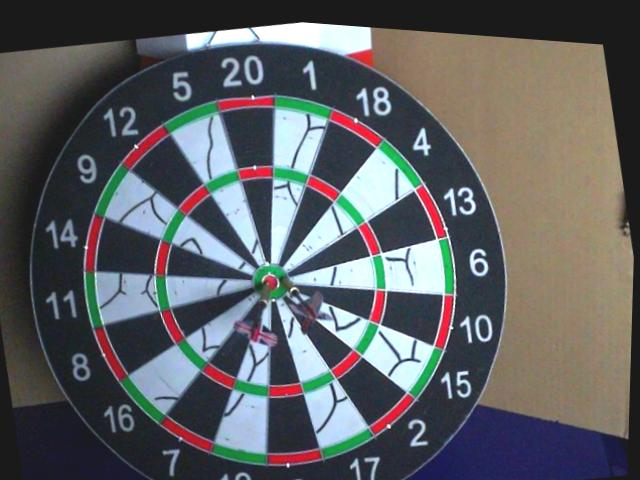bullseye: (258, 270, 288, 300)
